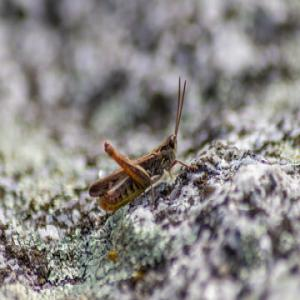locust: (86, 102, 198, 222)
